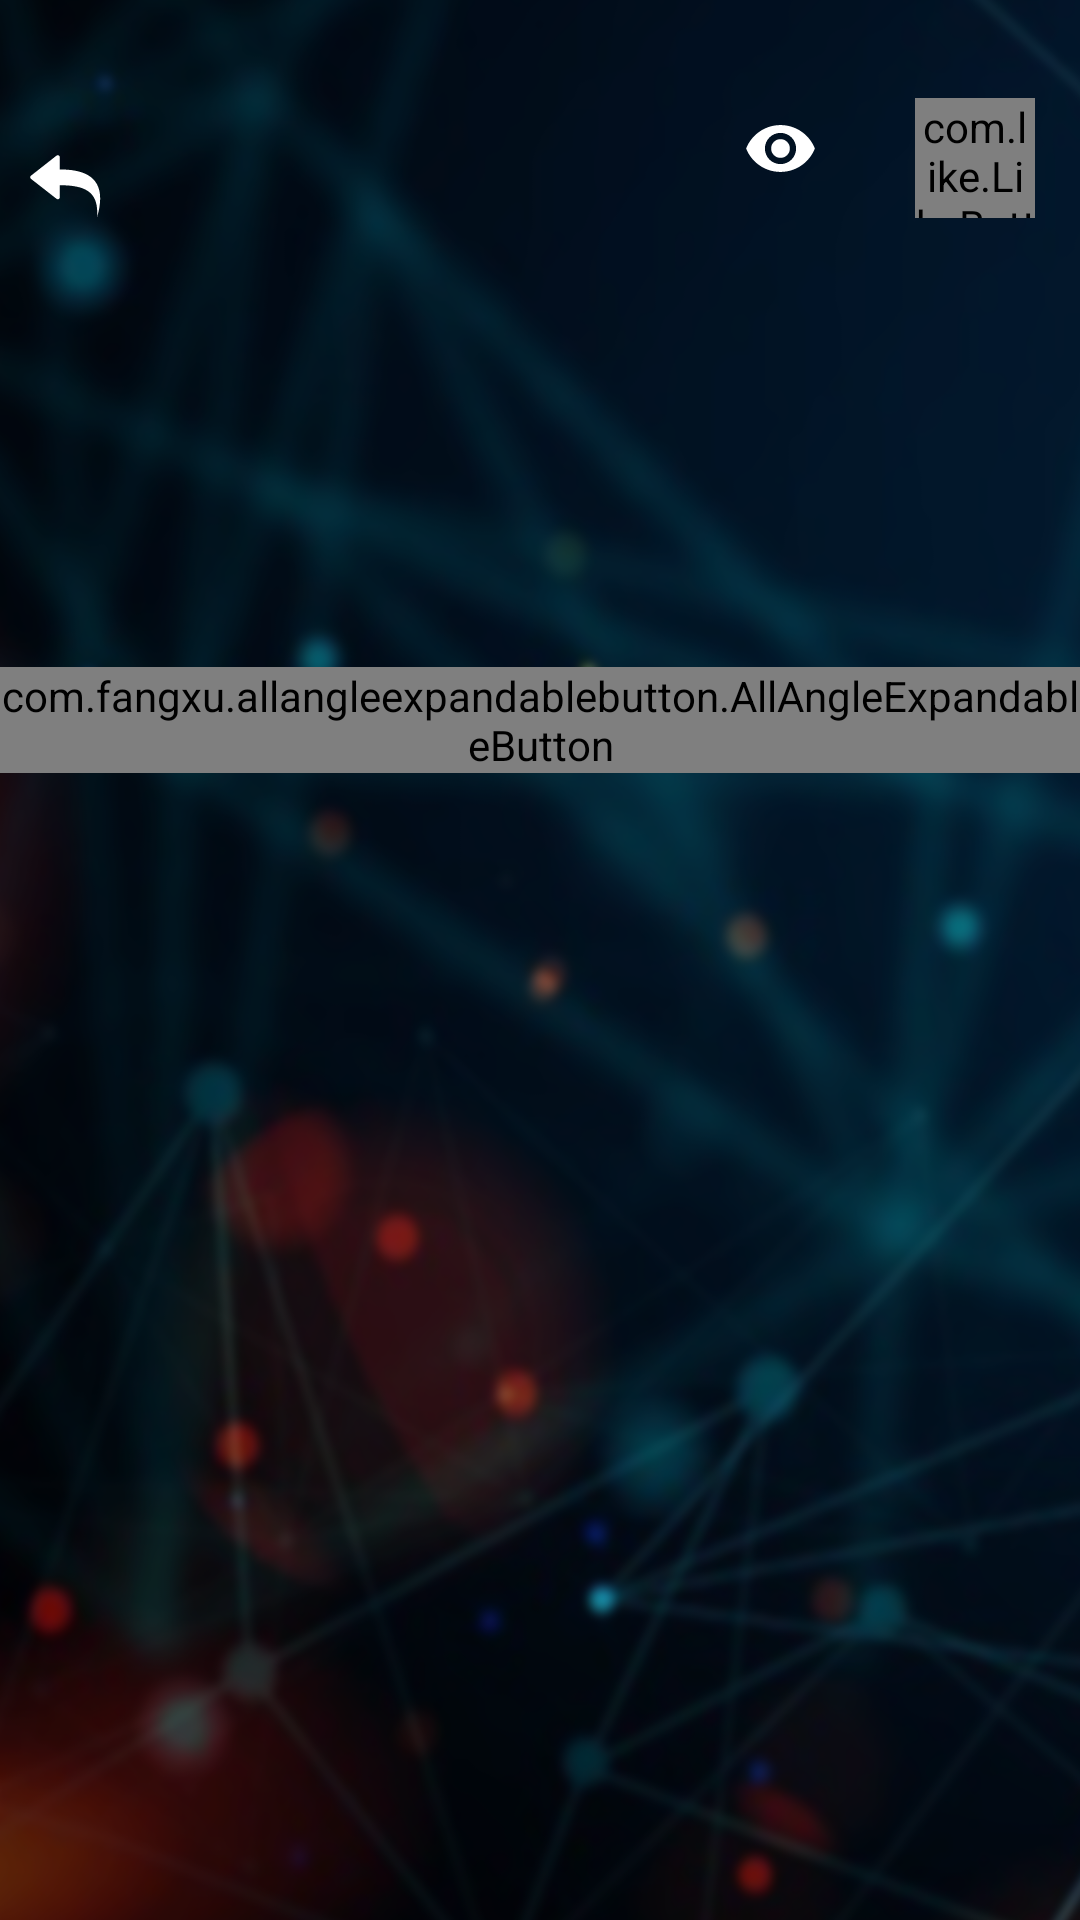

Icons on this 1080px x 1920px Android screen, each with the point to tap as [x,y]:
detail back: [65,186]
views: [780,148]
